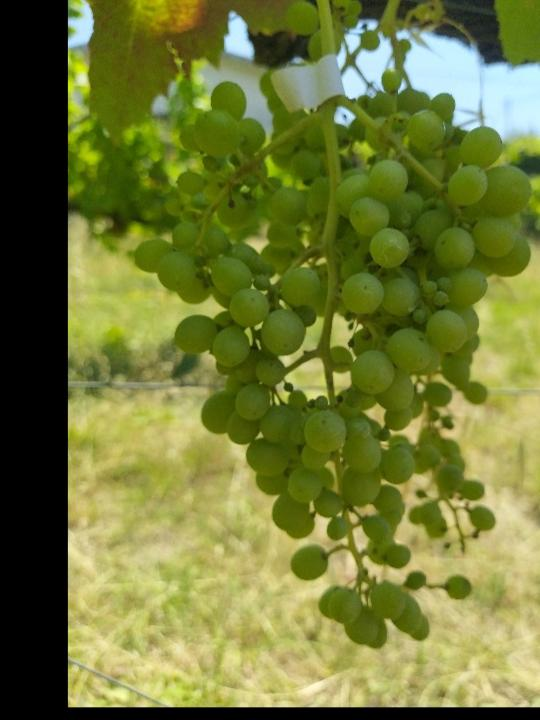grape: (127, 67, 536, 655)
